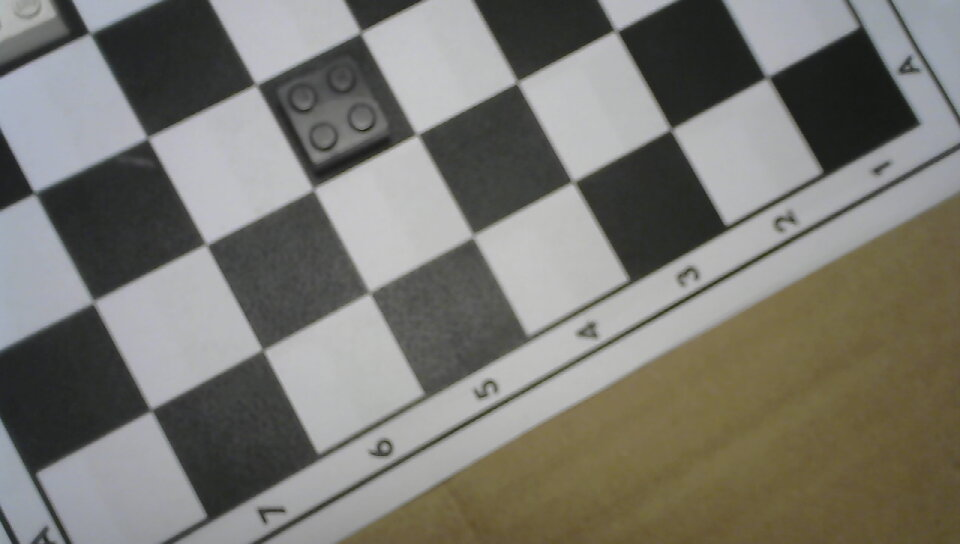bp: (271, 47, 395, 175)
